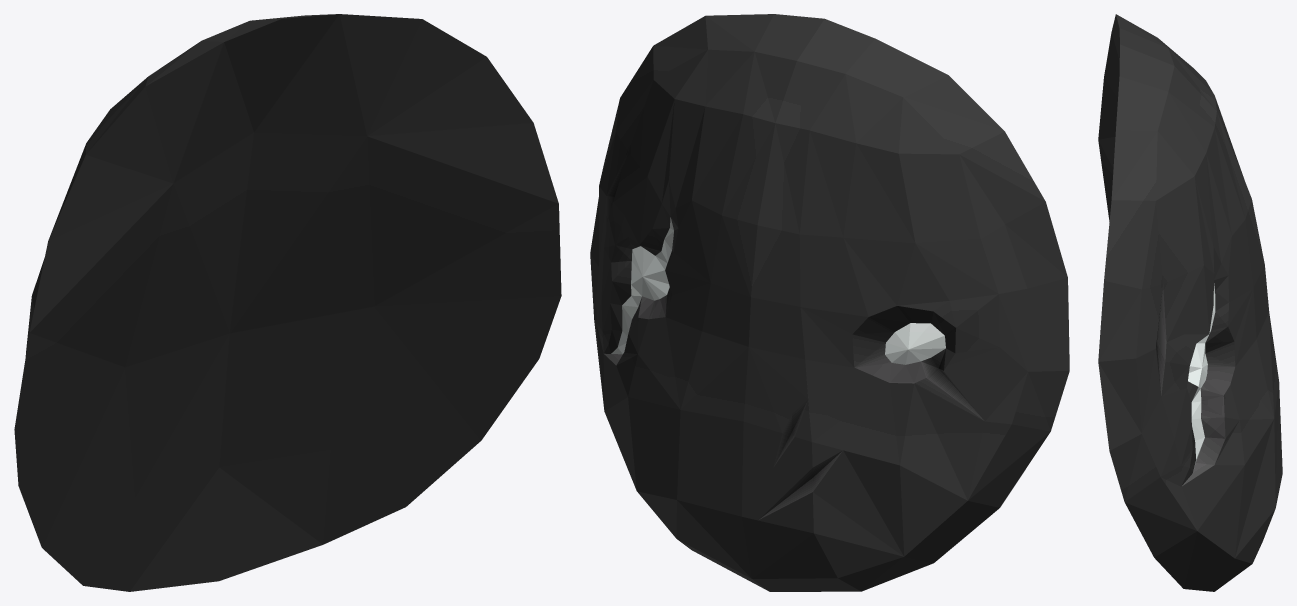
Rendered from NPC_AP27GuardMask.glb.
3 renders of one model, left to right at view 1: azimuth 30°, elevation 25°; view 2: azimuth 150°, elevation 25°; view 3: azimuth 270°, elevation 25°, orthographic. The views are drawn at different scales.
Parts seen in each view (by area): view 1: NPC_AP27GuardMask; view 2: NPC_AP27GuardMask; view 3: NPC_AP27GuardMask.
Part boxes in pixels (left/top/right/bottom): NPC_AP27GuardMask: left=14, top=14, right=561, bottom=591; NPC_AP27GuardMask: left=590, top=14, right=1069, bottom=591; NPC_AP27GuardMask: left=1098, top=14, right=1282, bottom=591.
Bounding box in the file's own units: 1.23 × 1.31 × 0.4181.
Materials: 1 (1 with a texture image).
